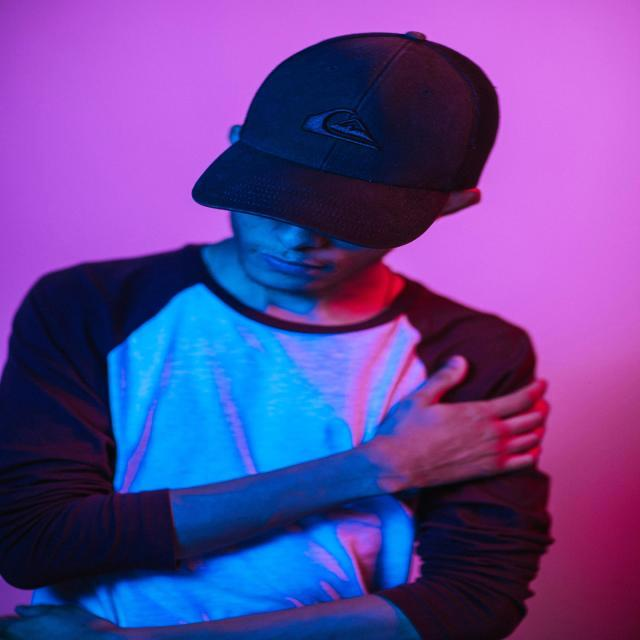no_hard_hat: (194, 33, 499, 241)
person: (2, 33, 550, 640)
